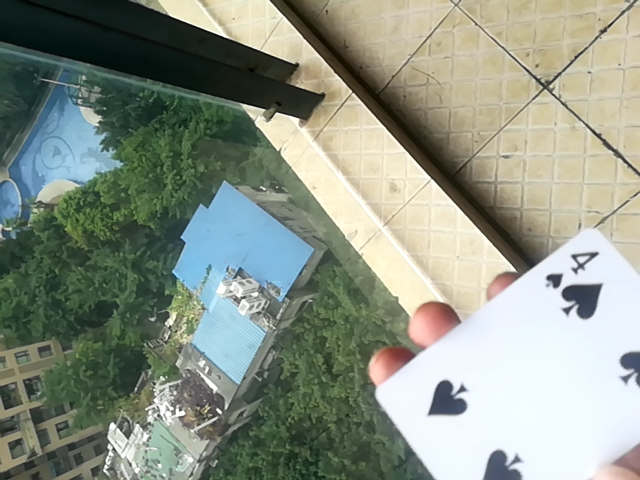ht 4: (364, 231, 640, 479)
